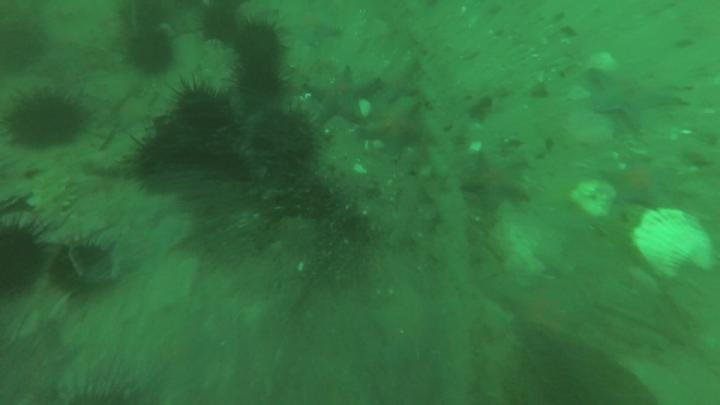echinus: (128, 133, 204, 197), (10, 94, 87, 150), (249, 110, 315, 164), (2, 228, 41, 299), (178, 88, 221, 131), (52, 246, 93, 291), (128, 34, 174, 74), (239, 21, 279, 64), (236, 66, 283, 102), (200, 5, 239, 41), (126, 1, 163, 37)
holothurian: (30, 177, 78, 227)
scallop: (635, 208, 720, 281), (352, 164, 369, 176), (469, 141, 484, 152)
starfish: (589, 68, 686, 127), (501, 280, 589, 339), (598, 158, 685, 209), (306, 66, 378, 125), (458, 155, 533, 211), (362, 102, 426, 154), (286, 13, 341, 49), (378, 57, 421, 101), (150, 213, 193, 257), (117, 95, 156, 130)
